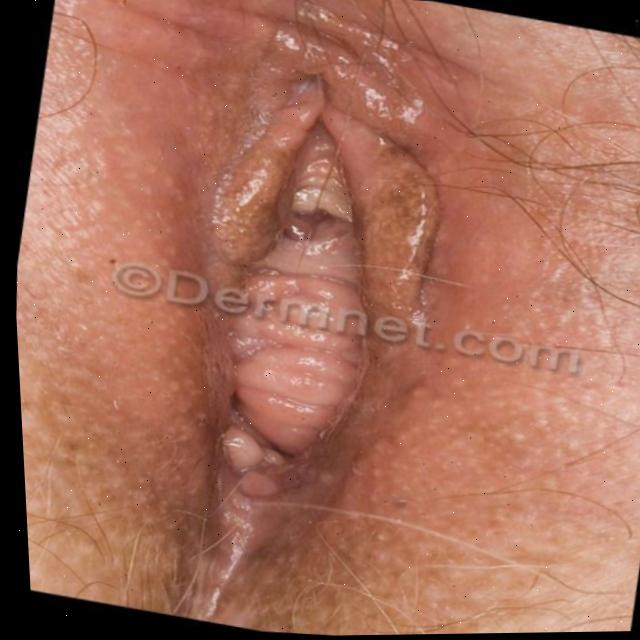Shingles: (212, 413, 277, 488)
